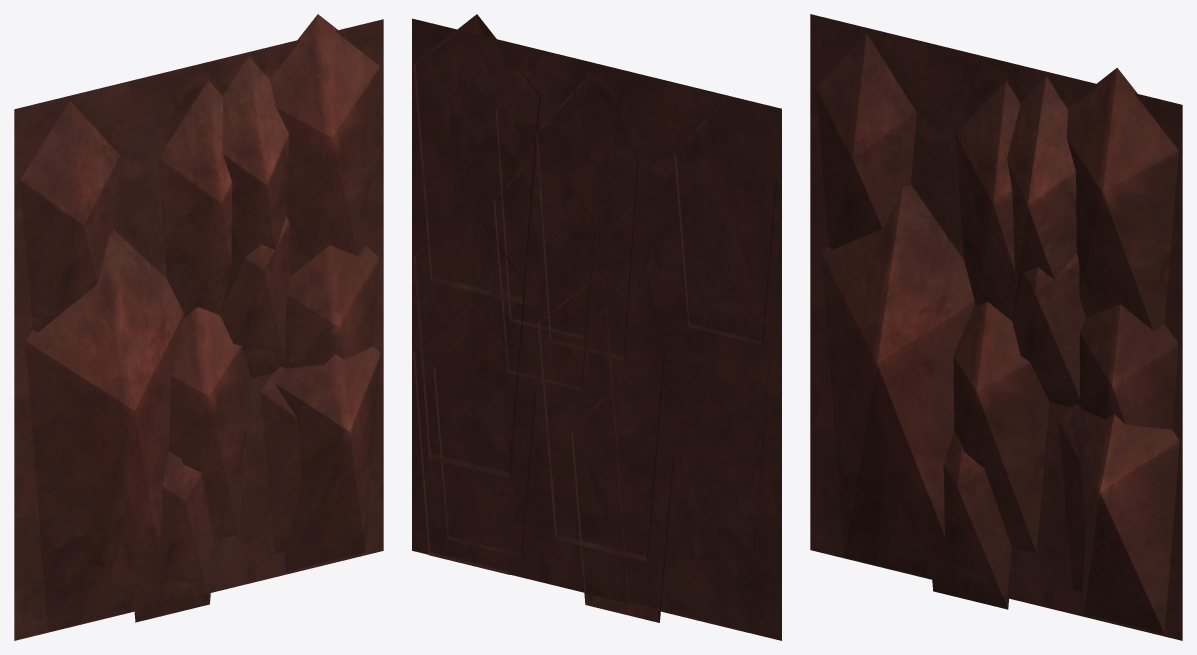
Rendered from lava_wall_straight_05.fbx.
3 views of the same model, side by side, from view 1: azimuth 30°, elevation 25°; view 2: azimuth 150°, elevation 25°; view 3: azimuth 330°, elevation 25° (orthographic).
Visible parts, largest first — view 1: obj1.004; view 2: obj1.004; view 3: obj1.004.
Part boxes in pixels (x1,y1,x2,y2): obj1.004: [14, 14, 383, 640]; obj1.004: [412, 14, 781, 640]; obj1.004: [810, 14, 1182, 640].
Bounding box in the file's own units: 4 × 5.83 × 0.5154.
